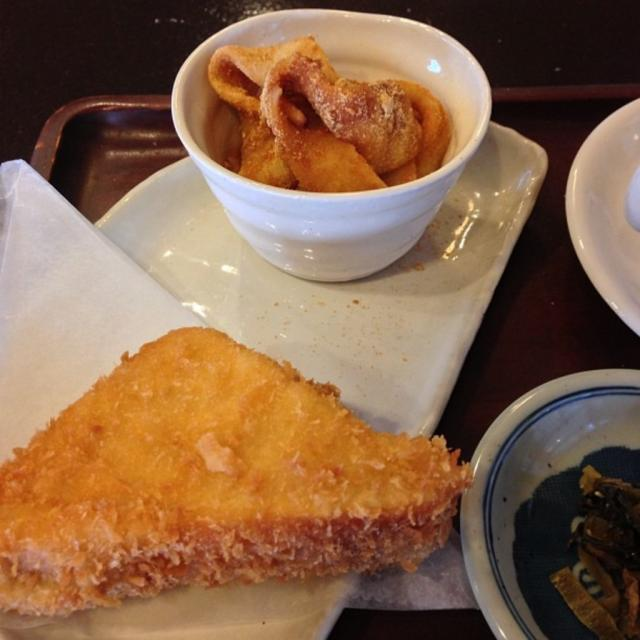non-organic waste: (161, 11, 481, 342), (380, 342, 640, 640), (520, 46, 640, 385)
